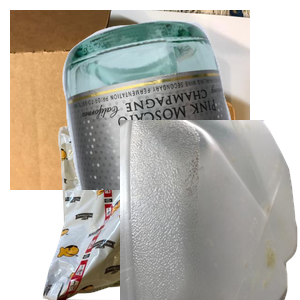cardboard: (10, 10, 250, 190)
glass: (60, 17, 300, 197)
plastic: (120, 120, 300, 300)
trash: (25, 120, 198, 300)
